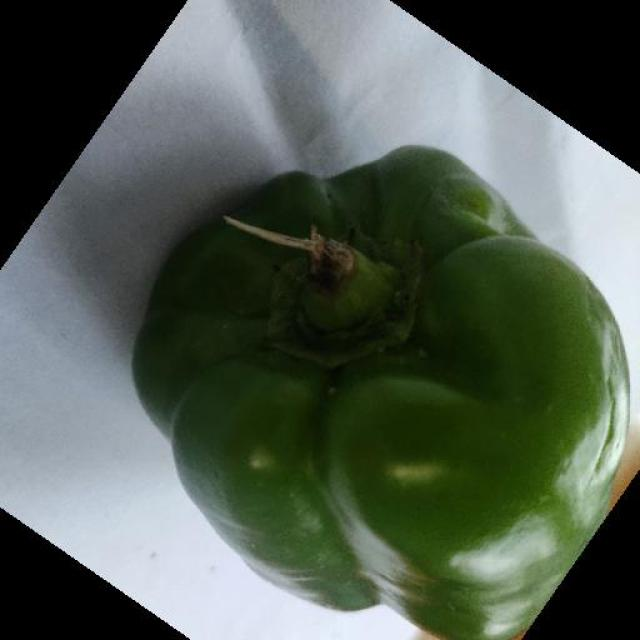Fresh_Capsicum: (186, 139, 622, 599)
